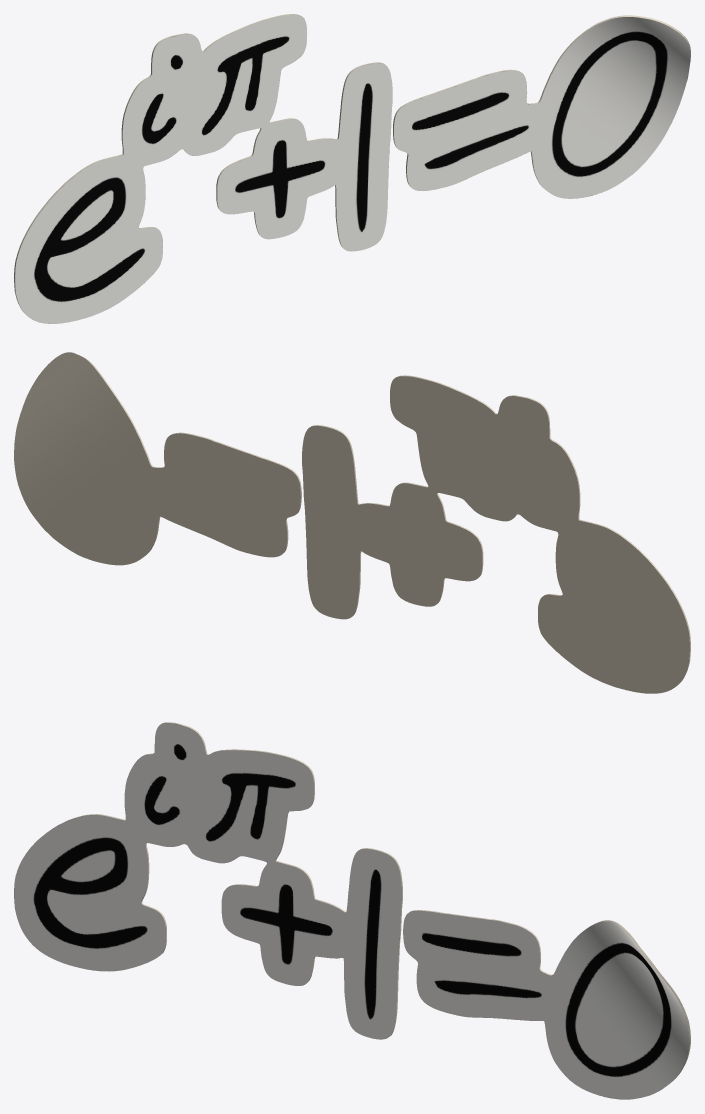
The model's file is old-03-euler-identity.glb.
The picture shows the model from 3 angles, top to bottom: view 1: azimuth 30°, elevation 25°; view 2: azimuth 150°, elevation 25°; view 3: azimuth 330°, elevation 25°; orthographic projection. The views are drawn at different scales.
Parts seen in each view (by area): view 1: old-03-euler-identity / thin printed sticker; view 2: old-03-euler-identity / thin printed sticker; view 3: old-03-euler-identity / thin printed sticker.
Part boxes in pixels (x1=…): old-03-euler-identity / thin printed sticker: x1=14, y1=14, x2=690, y2=323; old-03-euler-identity / thin printed sticker: x1=14, y1=352, x2=690, y2=693; old-03-euler-identity / thin printed sticker: x1=14, y1=722, x2=690, y2=1099.
Bounding box in the file's own units: 2.33 × 0.8766 × 0.1445.
2 materials, 1 textured.
